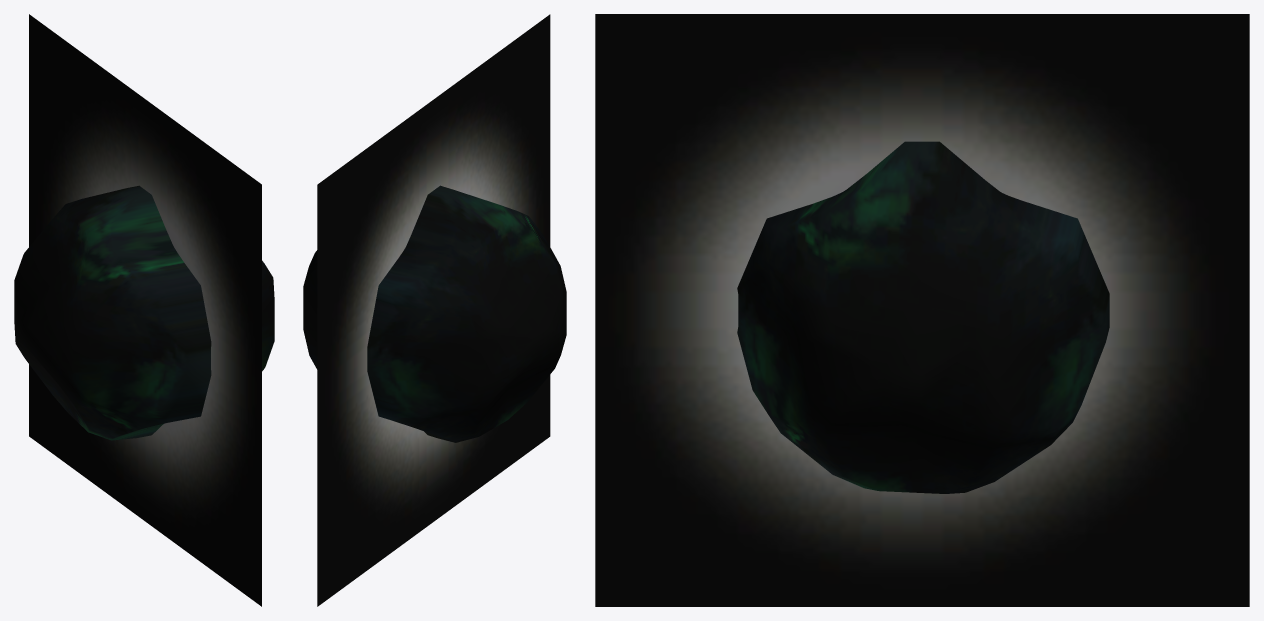
The model's file is PsionicShieldAnimated.fbx.
3 renders of one model, left to right at view 1: azimuth 30°, elevation 25°; view 2: azimuth 150°, elevation 25°; view 3: azimuth 270°, elevation 25°, orthographic. The views are drawn at different scales.
Visible parts, largest first — view 1: BOX030, HEDRA010; view 2: BOX030, HEDRA010; view 3: BOX030, HEDRA010.
Part boxes in pixels (x1,y1,x2,y2): BOX030: (29, 14, 261, 606); HEDRA010: (14, 185, 274, 440); BOX030: (317, 14, 550, 606); HEDRA010: (303, 185, 566, 442); BOX030: (595, 14, 1249, 606); HEDRA010: (737, 141, 1109, 493).
Bounding box in the file's own units: 199 × 348 × 348.
Materials: 2 (2 with a texture image).
